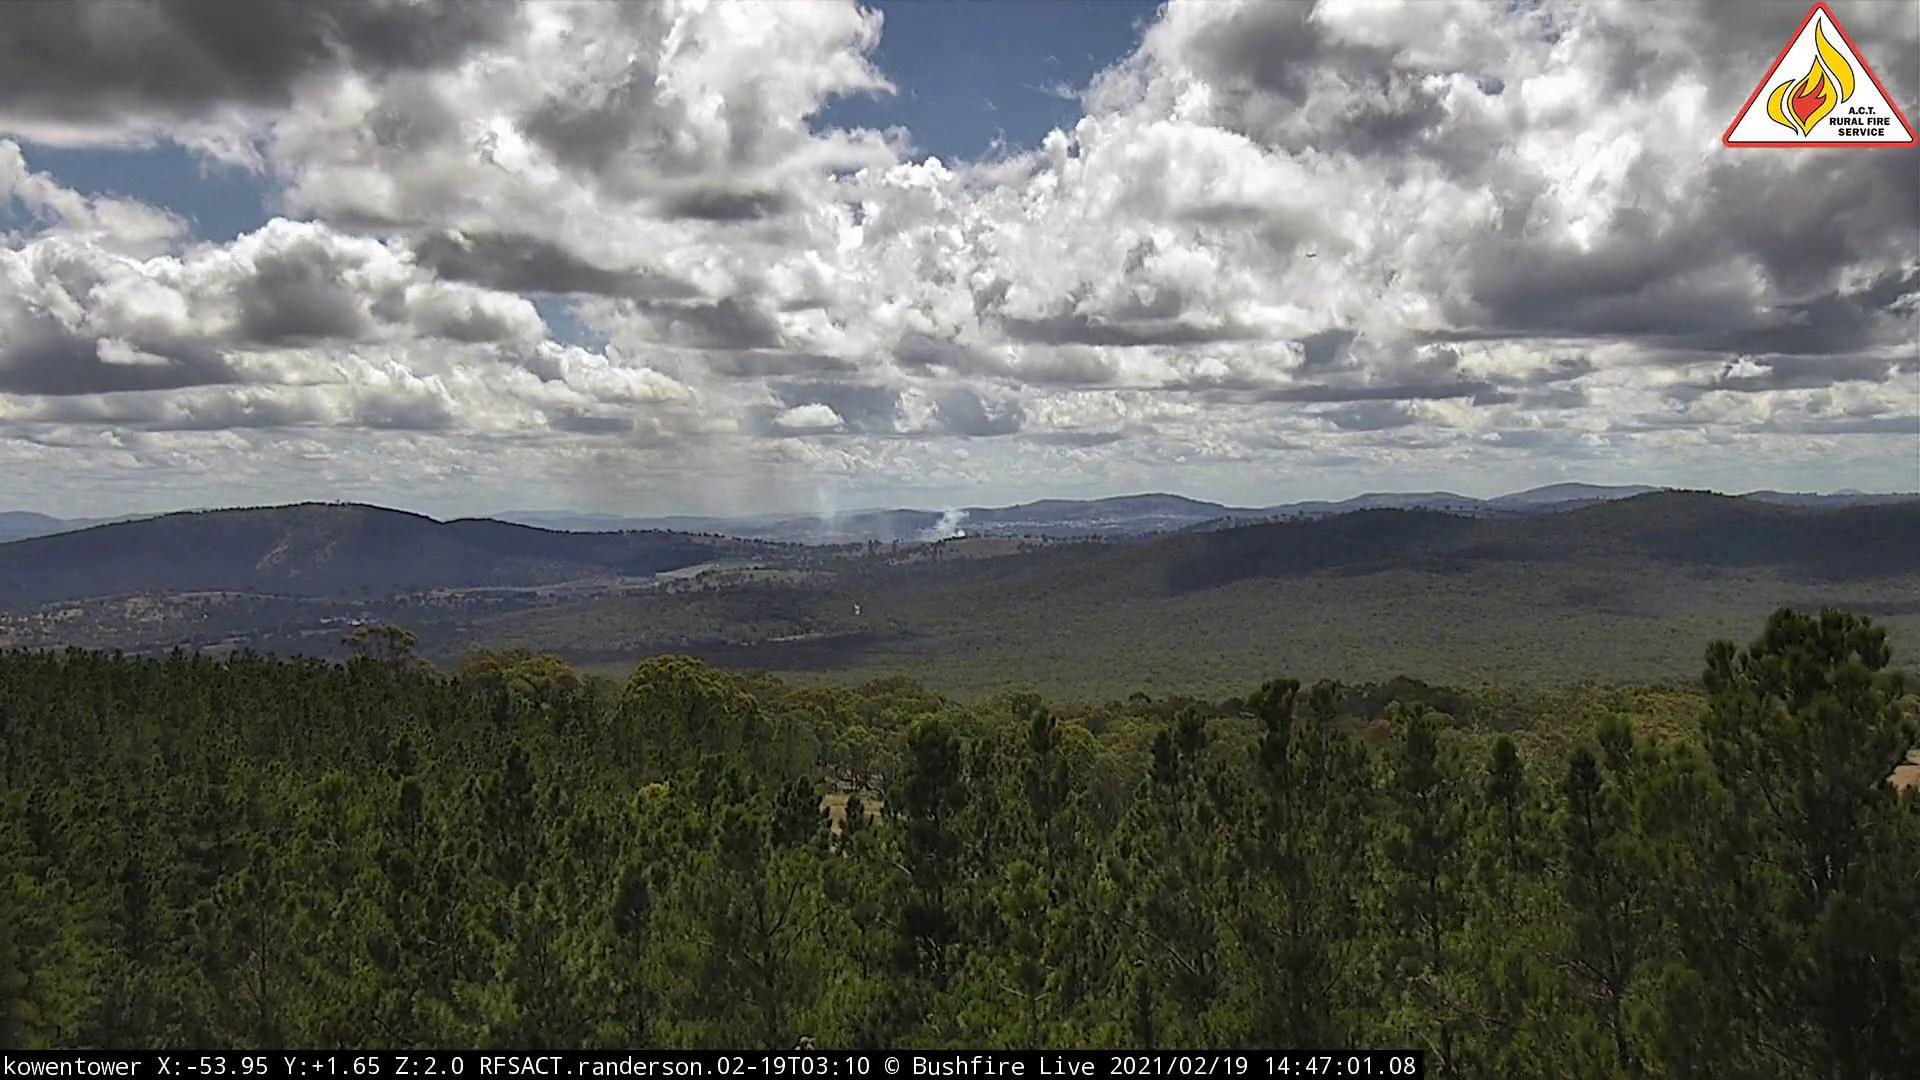Smoke: (553, 417, 978, 547)
